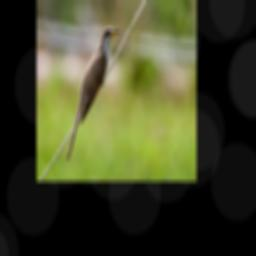Cuckoo: (64, 26, 120, 165)
